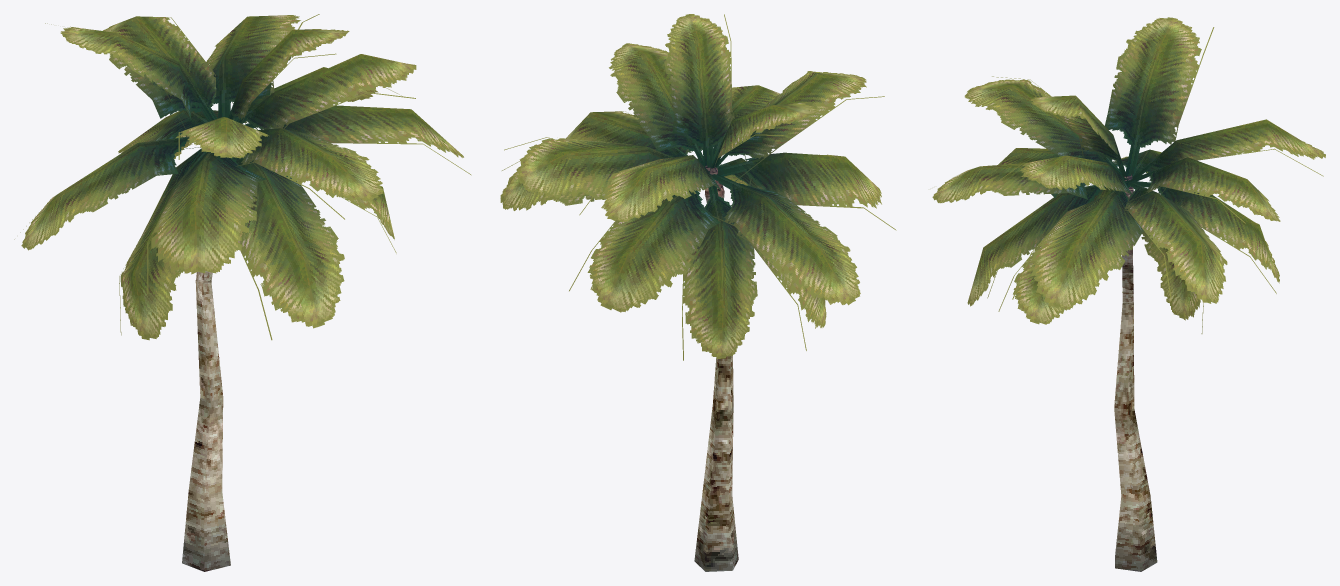
Rendered from stage-beac-p2-84.glb.
3 views of the same model, side by side, from view 1: azimuth 30°, elevation 25°; view 2: azimuth 150°, elevation 25°; view 3: azimuth 270°, elevation 25° (orthographic). The views are drawn at different scales.
Bounding box in the file's own units: 13.68 × 17.98 × 13.2.
1 material, 1 textured.
